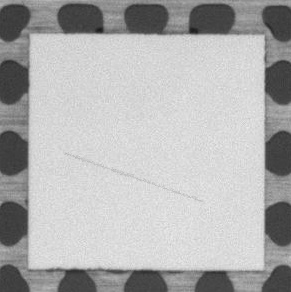DIE_CRACK: (65, 154, 201, 202)
